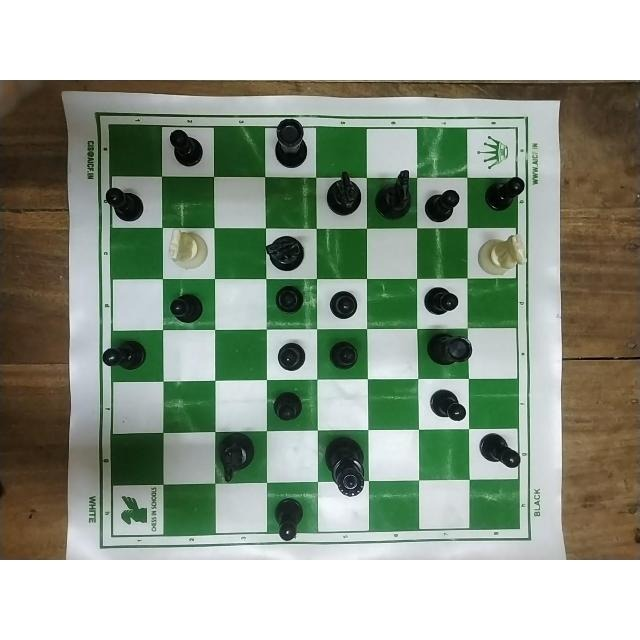black-knight: (213, 431, 260, 481), (373, 166, 414, 222), (266, 228, 308, 276), (327, 167, 363, 218)
black-pawn: (475, 429, 527, 475), (165, 124, 208, 169), (102, 184, 148, 224), (484, 174, 528, 214), (417, 280, 465, 315), (423, 184, 465, 224), (98, 337, 149, 369), (324, 335, 362, 375), (424, 390, 471, 422), (271, 495, 302, 543), (274, 339, 310, 374), (169, 294, 206, 328), (271, 391, 307, 425), (274, 283, 306, 318), (324, 288, 357, 321)
black-queen: (323, 435, 370, 501)
black-rook: (270, 115, 314, 173), (421, 328, 475, 371)
white-knight: (473, 234, 525, 278), (163, 228, 212, 272)
